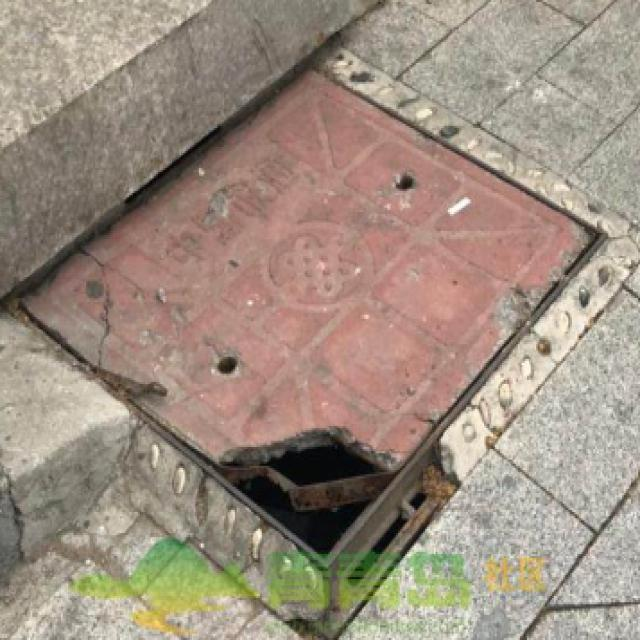manhole: (12, 65, 621, 640)
